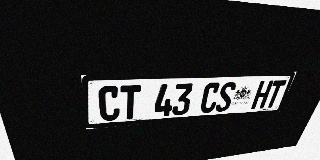3: (171, 83, 193, 116)
4: (154, 84, 175, 117)
C: (98, 86, 120, 121), (199, 82, 222, 113)
H: (251, 80, 274, 109)
S: (214, 82, 237, 112)
T: (120, 85, 141, 120), (264, 80, 287, 108)
